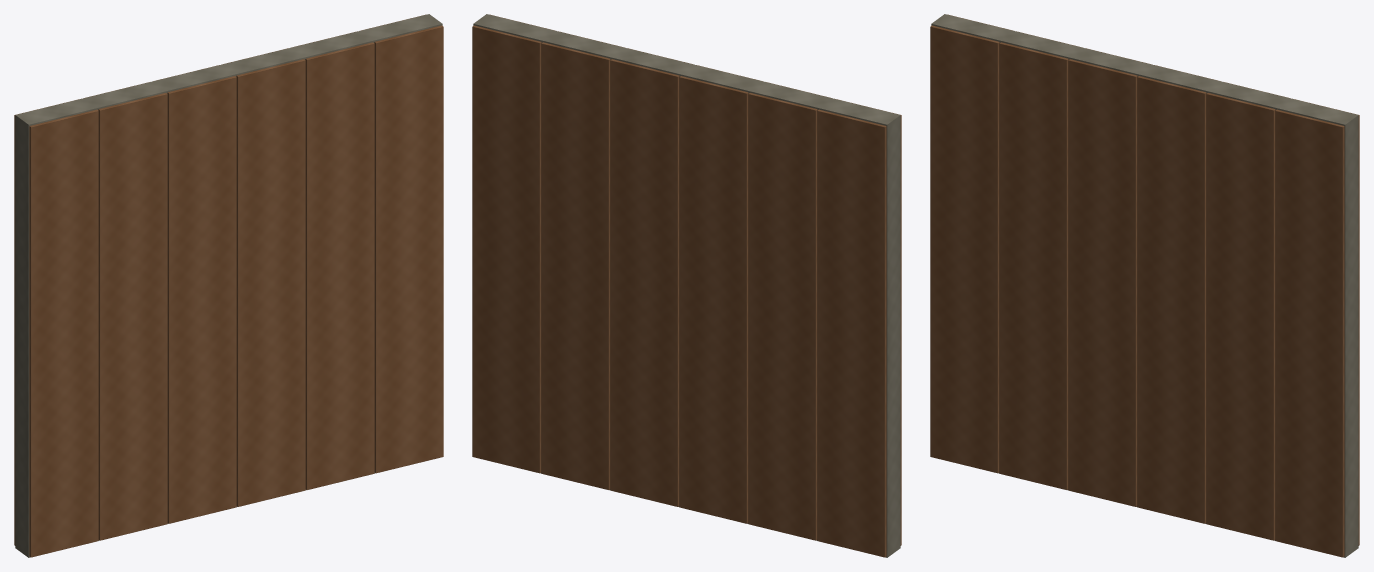
The model's file is MRP_WallHalf_Wood_1m.fbx.
3 views of the same model, side by side, from view 1: azimuth 30°, elevation 25°; view 2: azimuth 150°, elevation 25°; view 3: azimuth 330°, elevation 25° (orthographic).
Visible parts, largest first — view 1: Body; view 2: Body; view 3: Body.
Part boxes in pixels (bbox=[...]): Body: bbox=[14, 14, 443, 557]; Body: bbox=[472, 14, 901, 557]; Body: bbox=[930, 14, 1359, 557].
Size of the model in its own units: 1 by 1 by 0.07.
